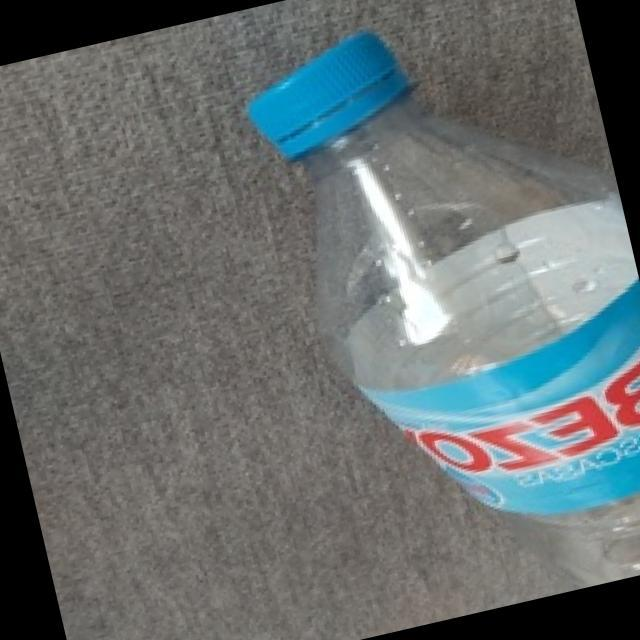good: (227, 0, 640, 639)
